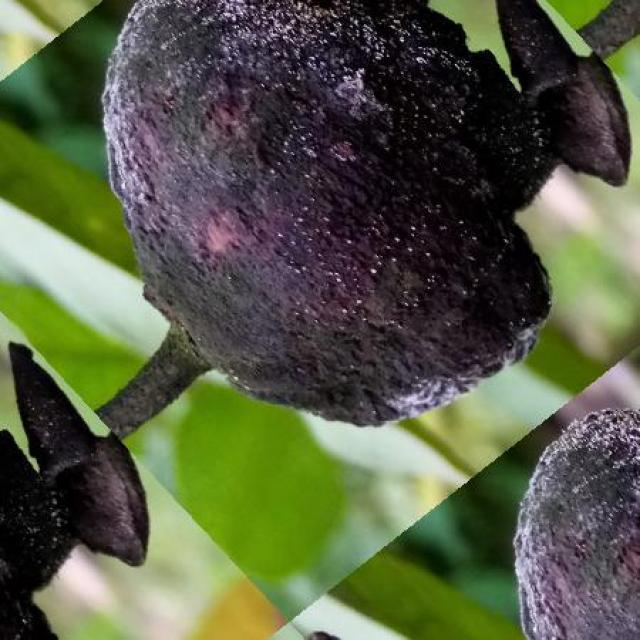Phytopthora: (104, 0, 630, 424), (515, 411, 640, 640)
